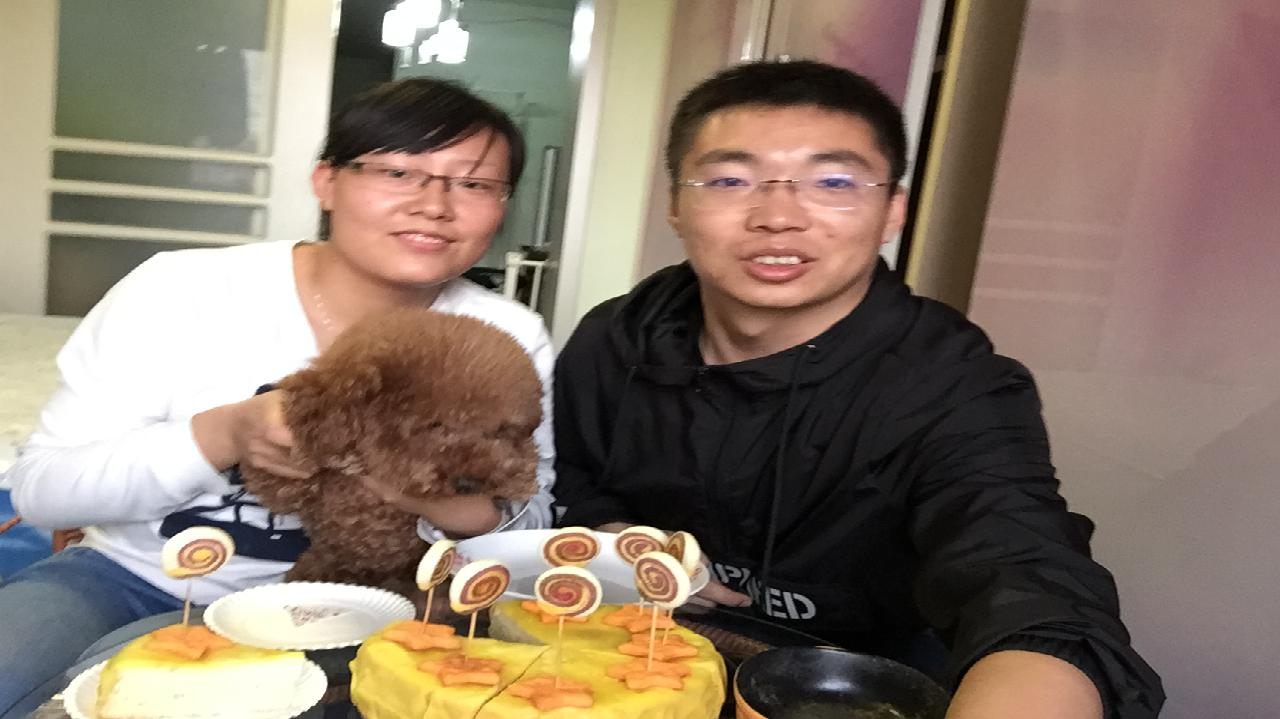zhuangzhuang: (269, 298, 556, 535)
